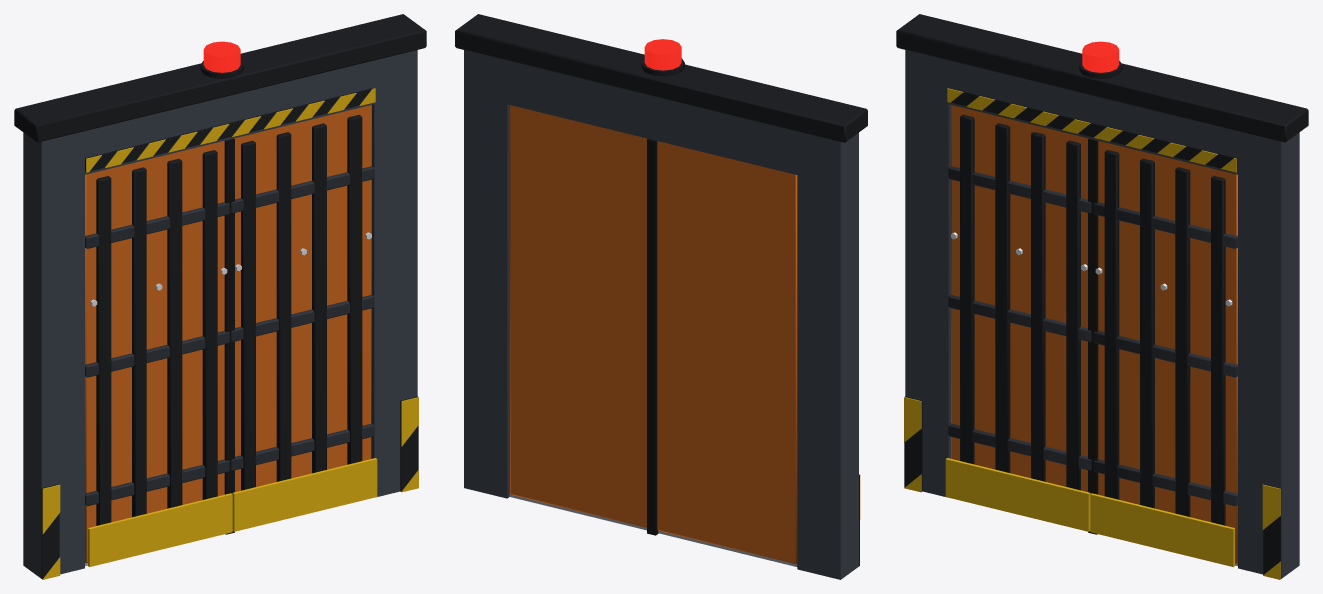
Rendered from door_hangar_pressure.glb.
3 views of the same model, side by side, from view 1: azimuth 30°, elevation 25°; view 2: azimuth 150°, elevation 25°; view 3: azimuth 330°, elevation 25° (orthographic).
Parts seen in each view (by area): view 1: body, leaf_l, leaf_r; view 2: body, leaf_l, leaf_r; view 3: body, leaf_r, leaf_l.
Boxes of the visible parts, x1,y1,x2,y2 form: body: [14, 14, 426, 579]; leaf_l: [85, 139, 232, 566]; leaf_r: [229, 105, 377, 533]; body: [455, 14, 867, 579]; leaf_l: [650, 139, 797, 564]; leaf_r: [510, 105, 653, 534]; body: [896, 14, 1308, 579]; leaf_r: [1090, 139, 1237, 566]; leaf_l: [945, 105, 1093, 533].
Size of the model in its own units: 2.7 by 3.16 by 0.295.
